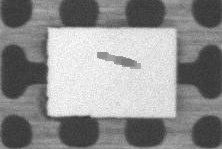DIE_INK: (95, 50, 141, 69)
